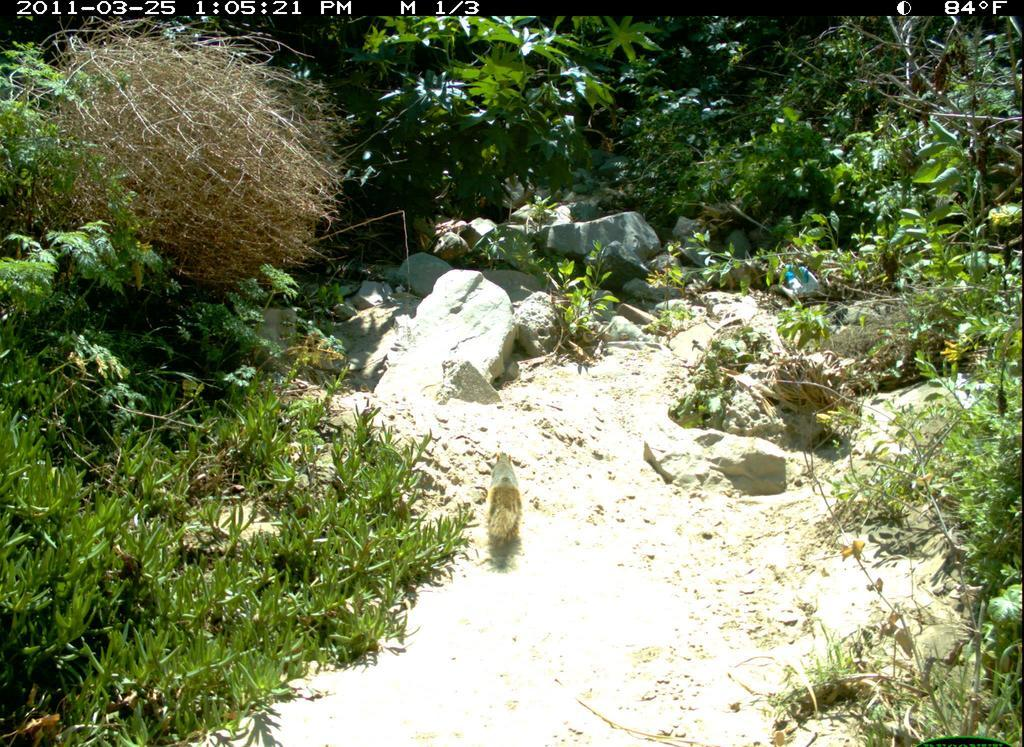squirrel: (483, 446, 532, 556)
